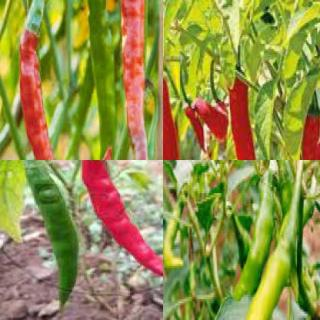green_chilli: (8, 160, 82, 312), (232, 218, 303, 319), (233, 178, 276, 300), (85, 0, 113, 159), (163, 201, 187, 268)
